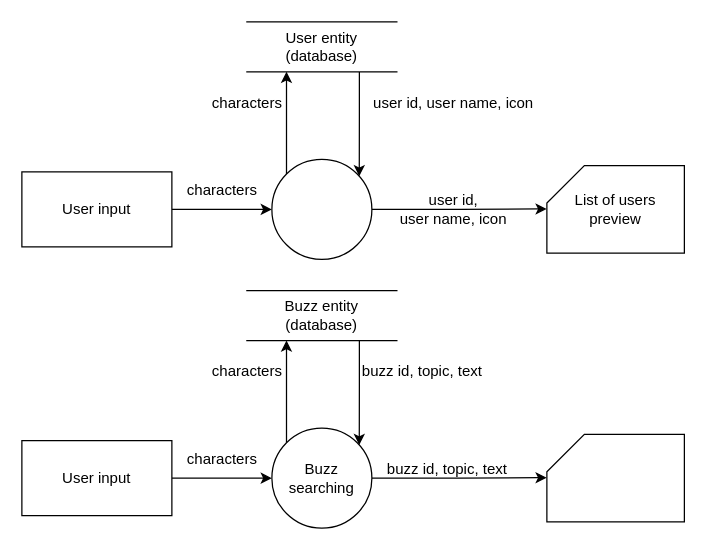
This 706x550 diagram has some shape labels left out. Here are the shapes that lost their labels. From the top down, the centre of each, then its label:
At [321,208]: "User searching".
At [615,477]: "List of buzzes preview".
